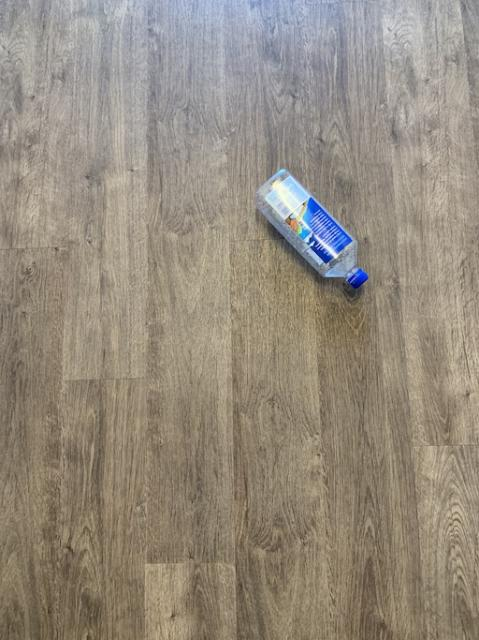plastic: (255, 168, 366, 287)
